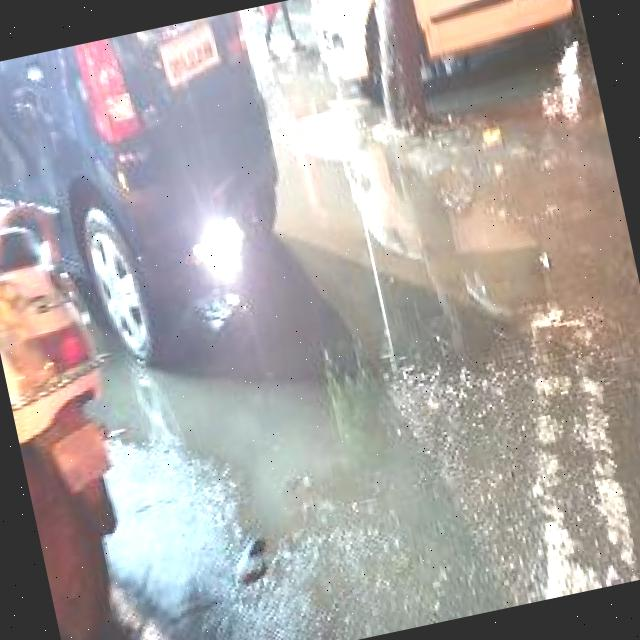stagnation: (128, 241, 478, 544)
